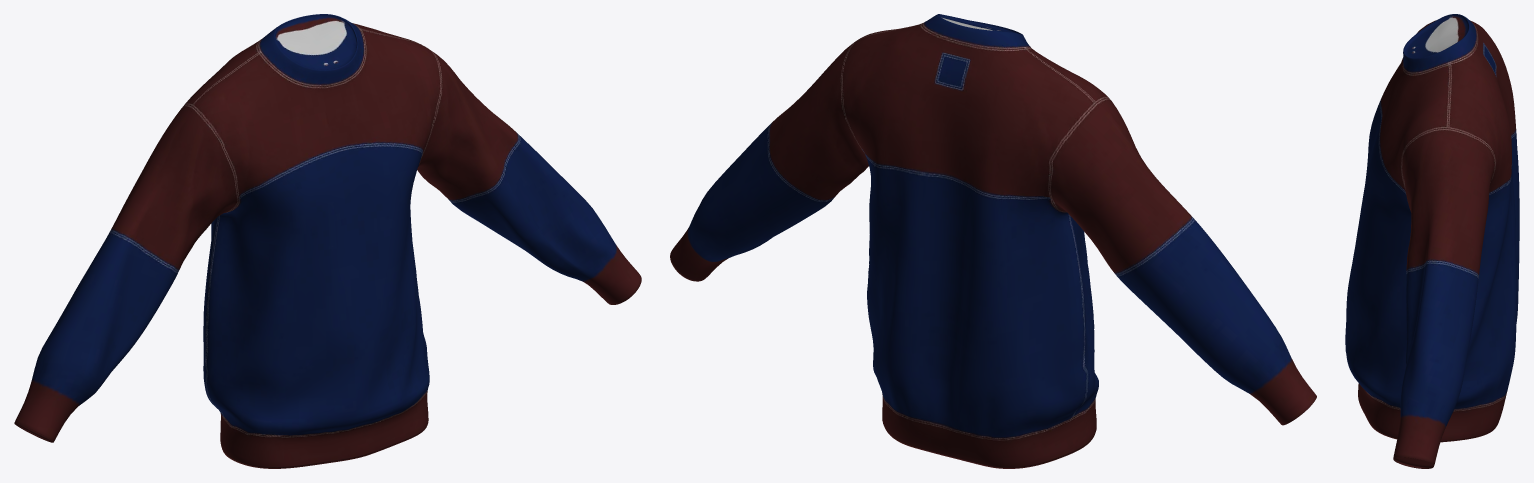
File: sudadera-basica-bicolor.glb
3 renders of one model, left to right at view 1: azimuth 30°, elevation 25°; view 2: azimuth 150°, elevation 25°; view 3: azimuth 270°, elevation 25°, orthographic. The views are drawn at different scales.
Parts seen in each view (by area): view 1: Plane__0; view 2: Plane__0; view 3: Plane__0.
Boxes of the visible parts, x1=… form: Plane__0: x1=14, y1=14, x2=641, y2=468; Plane__0: x1=670, y1=14, x2=1316, y2=468; Plane__0: x1=1345, y1=14, x2=1519, y2=468.
Size of the model in its own units: 1.11 by 0.7 by 0.2896.
Materials: 1 (1 with a texture image).
